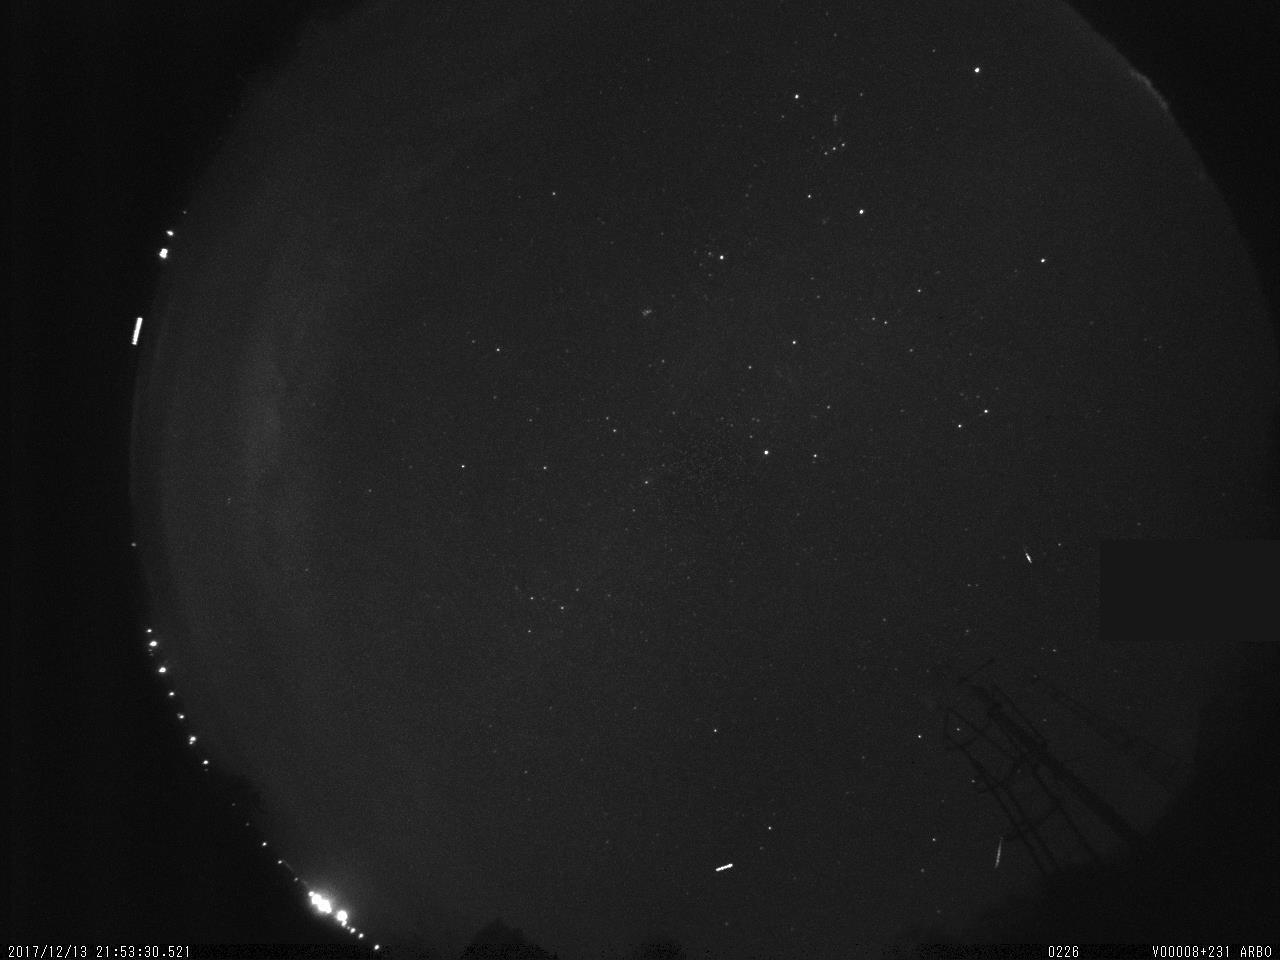meteor: (985, 827, 1012, 873)
